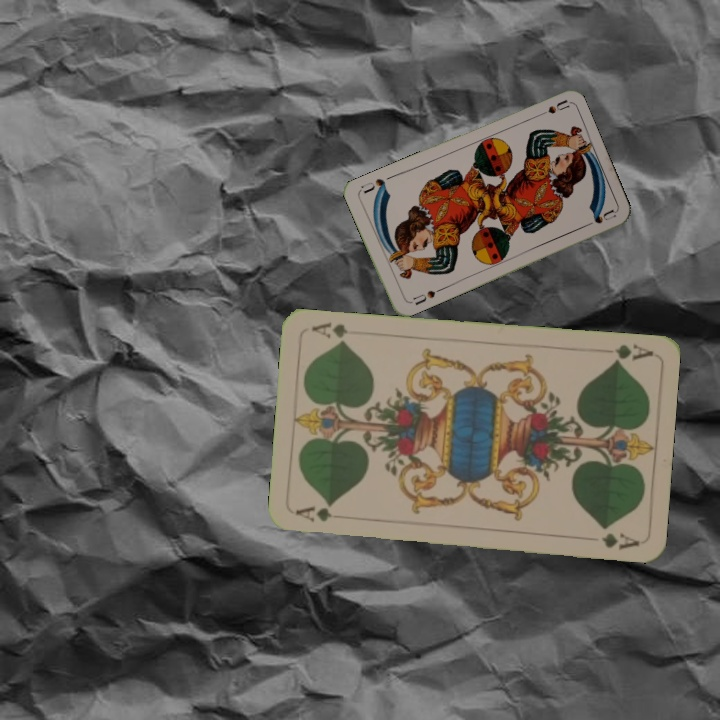GA: (607, 340, 654, 366), (292, 502, 334, 525)
SU: (531, 96, 571, 121), (409, 286, 438, 308)
